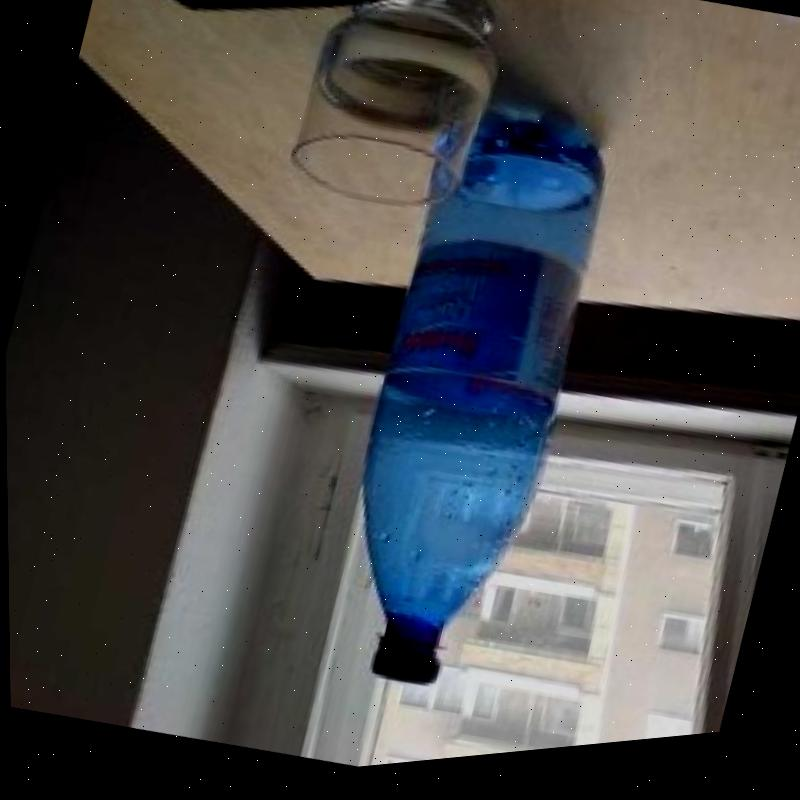botella: (299, 85, 639, 724)
